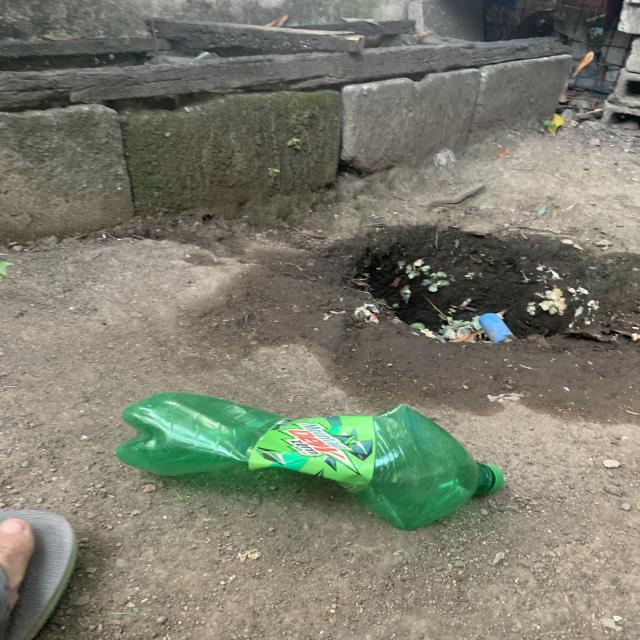Bottle: (116, 393, 503, 530)
